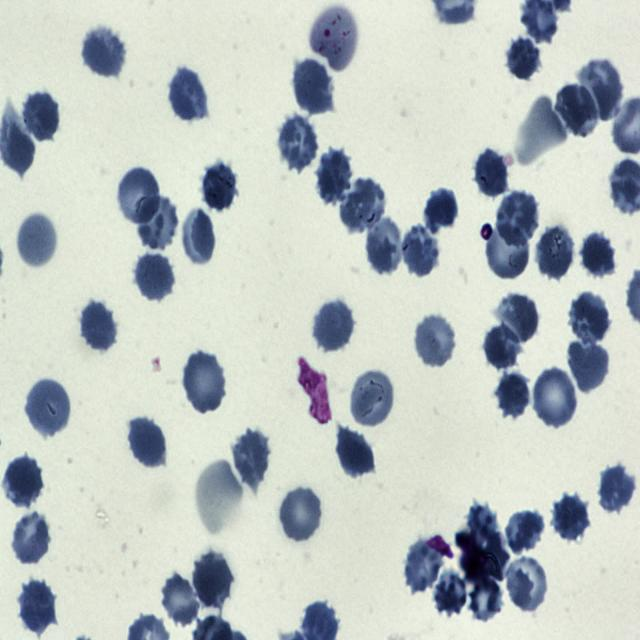red blood cell: (532, 365, 579, 429), (182, 349, 227, 414), (578, 58, 622, 122), (485, 220, 531, 281), (116, 165, 162, 226), (25, 379, 72, 438), (350, 367, 394, 430), (278, 483, 324, 543), (412, 311, 458, 370), (15, 210, 59, 271), (192, 549, 235, 610), (135, 194, 180, 251), (364, 214, 404, 275), (402, 536, 444, 594), (568, 290, 611, 345), (506, 556, 548, 612), (497, 292, 541, 345), (496, 191, 540, 244), (341, 177, 383, 232), (568, 338, 610, 392), (292, 59, 333, 114), (278, 114, 318, 170), (2, 454, 44, 507), (232, 429, 271, 486), (11, 510, 52, 564), (168, 69, 209, 123), (82, 27, 126, 76), (159, 573, 198, 628), (314, 299, 355, 351), (316, 150, 355, 203), (19, 579, 57, 633), (182, 208, 216, 268), (335, 428, 375, 479), (127, 416, 166, 468), (538, 224, 574, 280), (134, 252, 174, 302), (504, 509, 546, 556), (401, 226, 440, 276), (200, 161, 238, 212), (23, 90, 61, 141), (494, 370, 532, 421), (598, 463, 636, 514), (558, 85, 596, 136), (551, 493, 590, 542), (482, 323, 520, 373), (80, 302, 117, 352), (474, 146, 508, 198), (424, 185, 460, 234), (577, 232, 614, 278), (469, 576, 503, 624), (506, 36, 542, 80), (434, 570, 468, 616)
ring: (311, 4, 359, 72)
